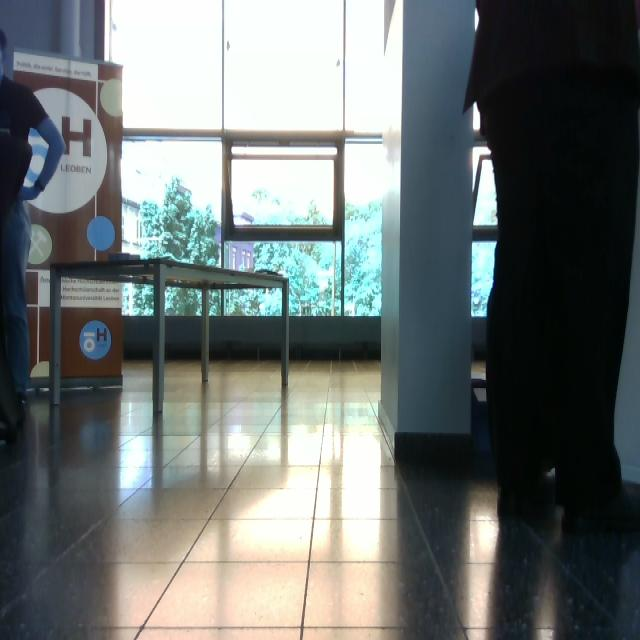door: (12, 48, 124, 390)
light bulb: (23, 125, 50, 189), (87, 216, 116, 252), (28, 224, 53, 265), (100, 79, 123, 119), (382, 125, 402, 165)
person: (462, 1, 640, 532), (1, 29, 67, 440)
pillar: (381, 1, 477, 457)
table: (47, 256, 293, 418)
tiled floor: (2, 356, 639, 638)
window: (105, 1, 390, 322)
